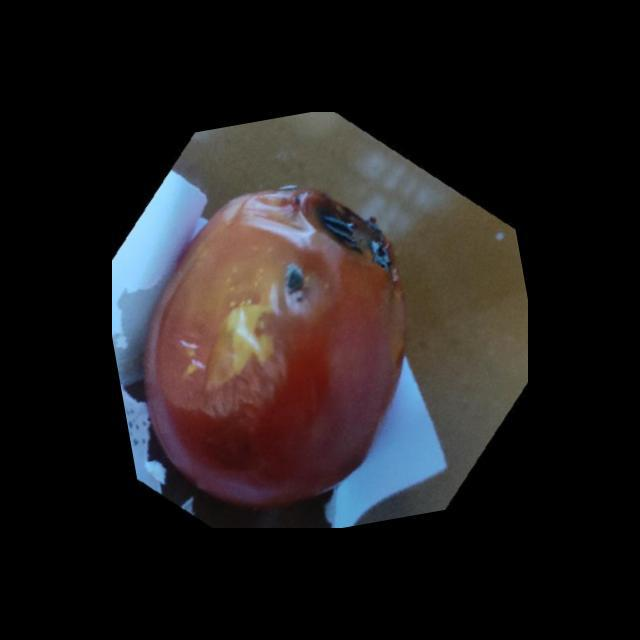tomato: (139, 176, 409, 511)
